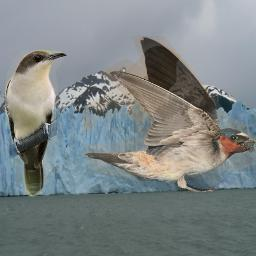Cuckoo: (5, 50, 67, 198)
Swallow: (83, 36, 256, 194)
